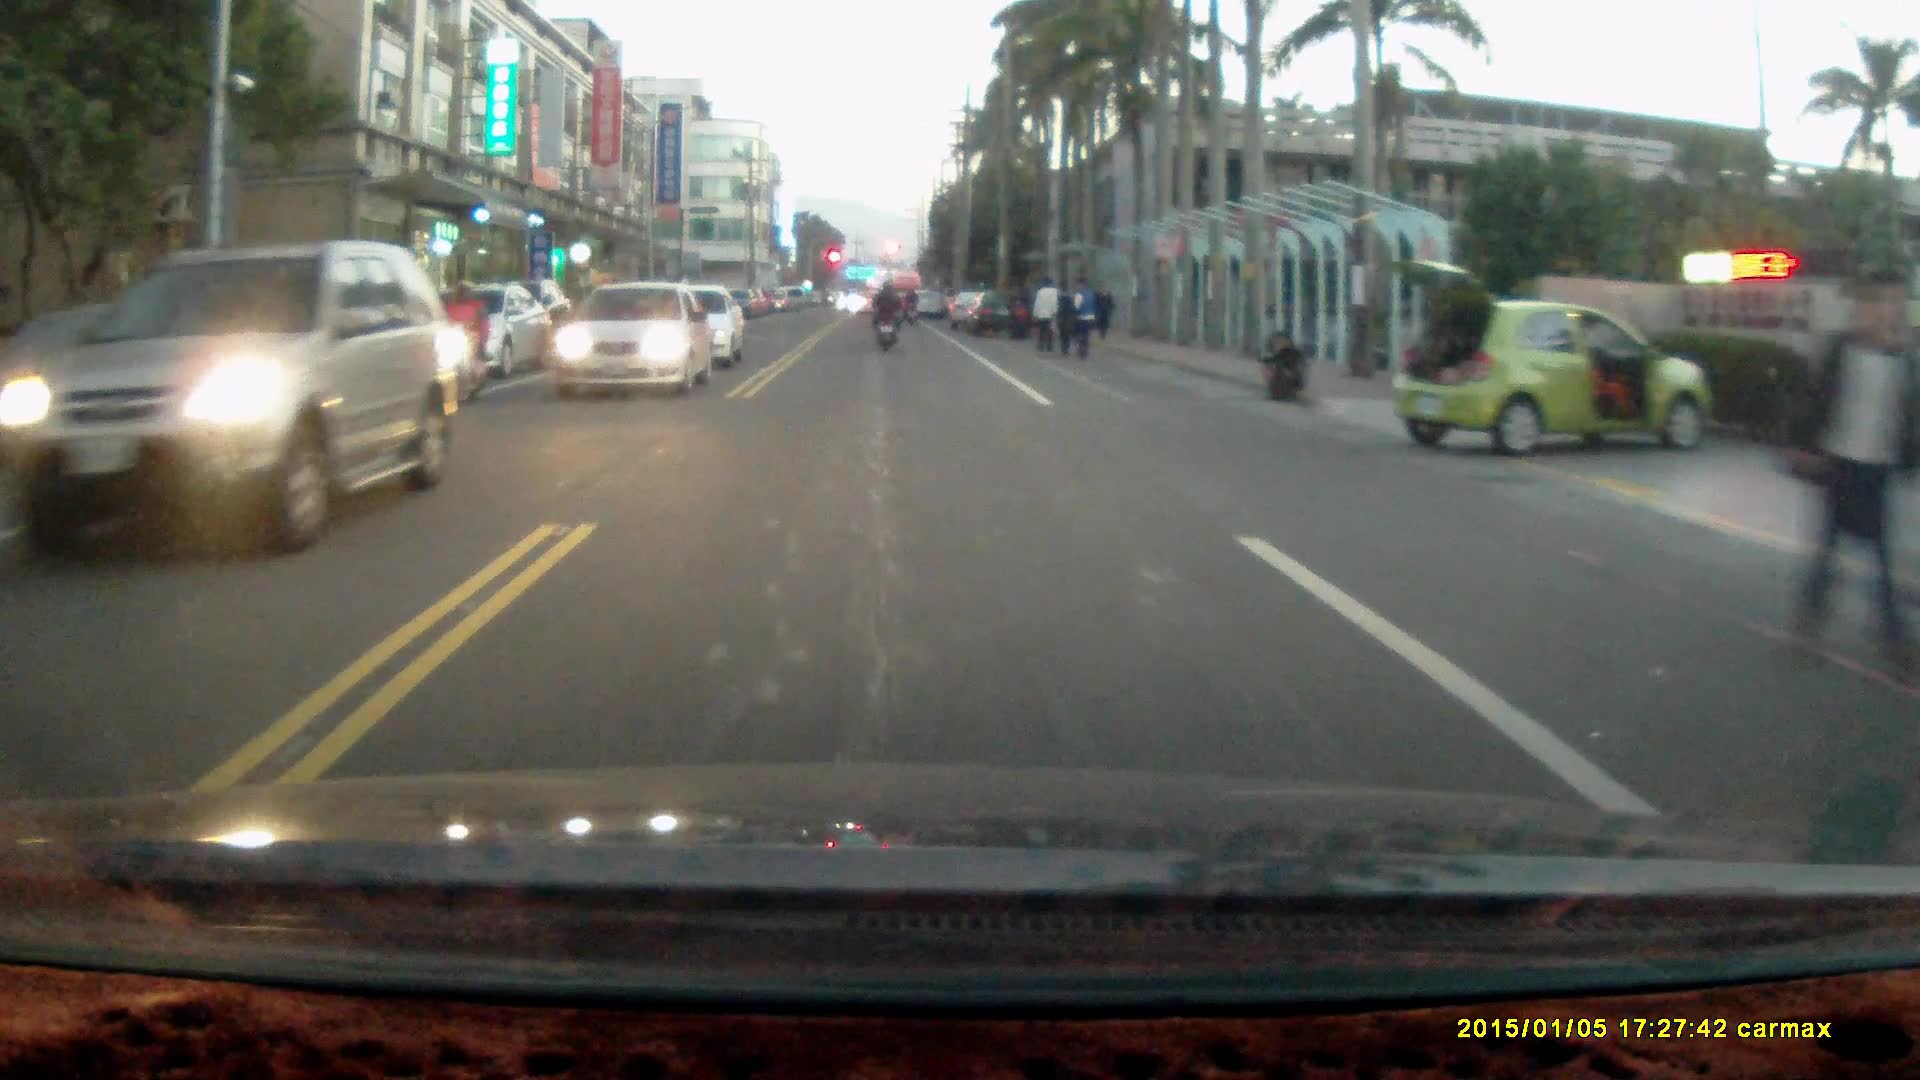pedestrian: (1775, 274, 1920, 683), (1257, 328, 1308, 406), (1062, 274, 1098, 359), (1050, 281, 1078, 361), (1031, 275, 1058, 360), (1091, 279, 1114, 339)
rider: (438, 278, 492, 408), (867, 278, 902, 356)
vehicle: (23, 239, 443, 562), (1387, 260, 1715, 458), (548, 281, 710, 409), (446, 286, 550, 392), (644, 284, 748, 372), (963, 291, 1033, 340)
